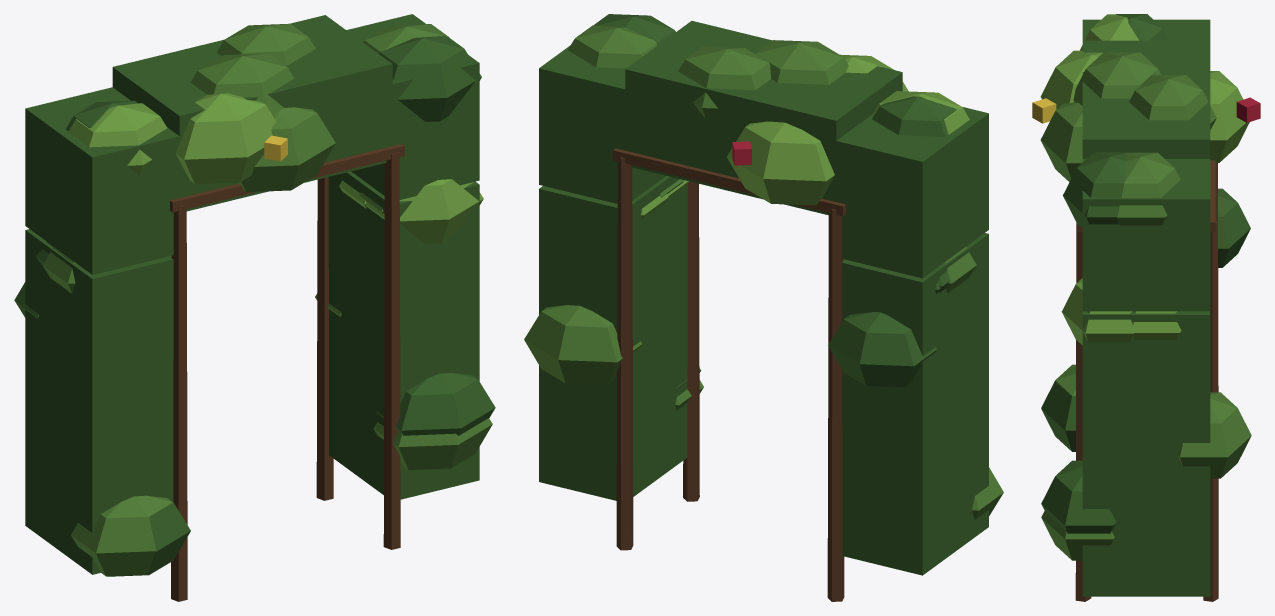
The model's file is hedge_arch.glb.
3 views of the same model, side by side, from view 1: azimuth 30°, elevation 25°; view 2: azimuth 150°, elevation 25°; view 3: azimuth 270°, elevation 25° (orthographic). The views are drawn at different scales.
Visible parts, largest first — view 1: wall_hedge_arch; view 2: wall_hedge_arch; view 3: wall_hedge_arch.
Part boxes in pixels (box(x1,y1,x2,y2)): wall_hedge_arch: box(14, 14, 495, 601); wall_hedge_arch: box(524, 14, 1003, 601); wall_hedge_arch: box(1032, 14, 1260, 601).
Bounding box in the file's own units: 2.07 × 2.5 × 1.07.
